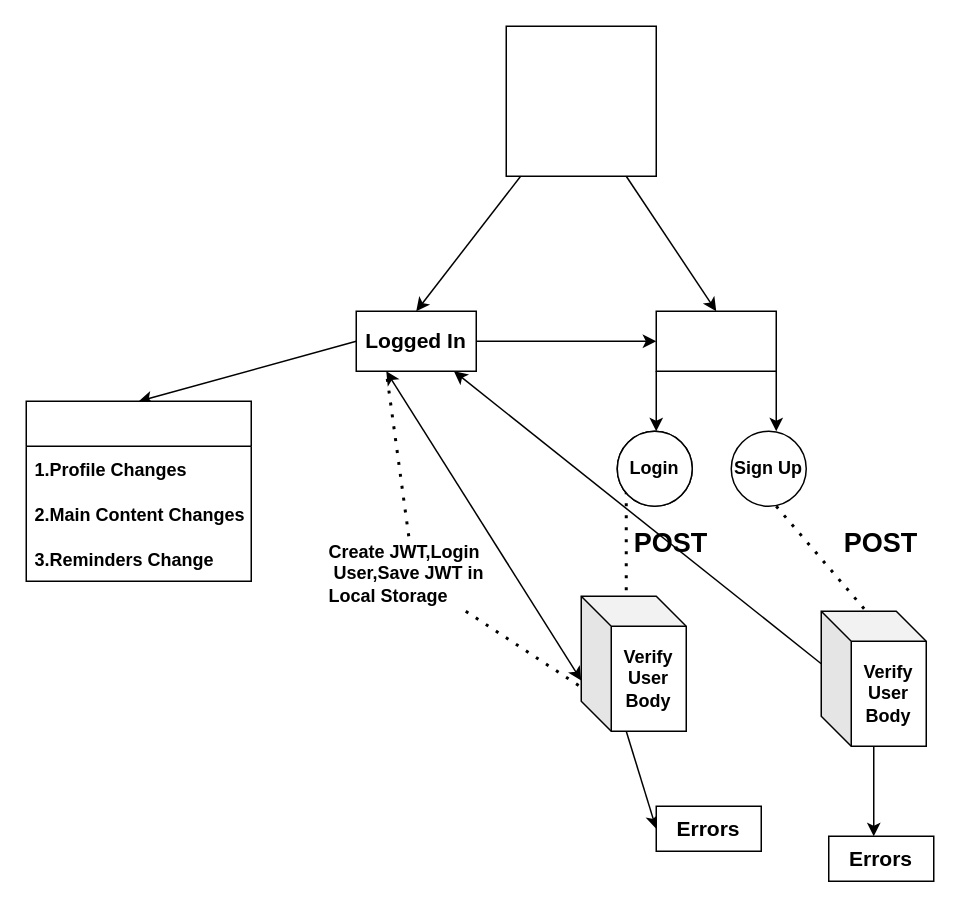
This 960x918 diagram has some shape labels left out. Here are the shapes that lost their labels. From the top down, the box of each, then its label:
(505, 25, 656, 176): Client
(655, 310, 776, 371): Logged Out
(25, 400, 251, 581): Frontend Changes
